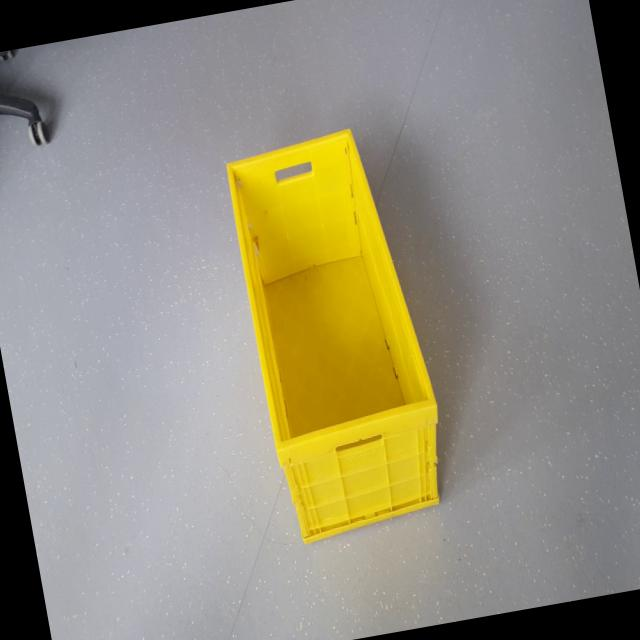box: (216, 94, 463, 564)
